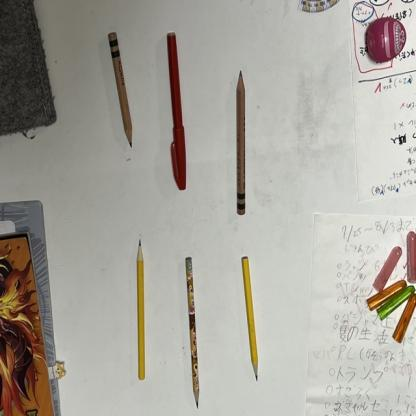pencil: (98, 15, 141, 160)
